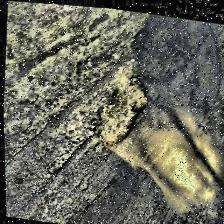pothole: (89, 50, 157, 152)
